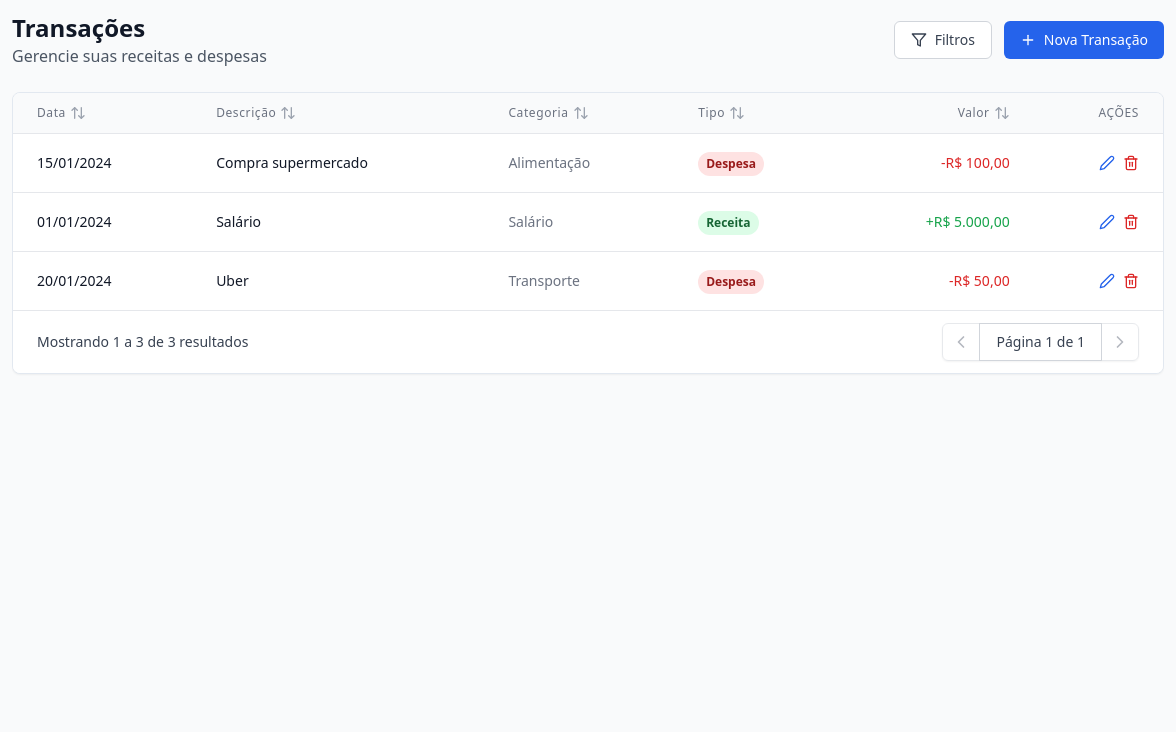
Test: TransactionsPage › Filtering › should open filter panel when clicking Filtros button
The image size is (1176, 732).
What coordinates should you click on to do the following:
click the button "Filtros"
I would click on:
 (943, 40)
Its box is [894,21,992,59].
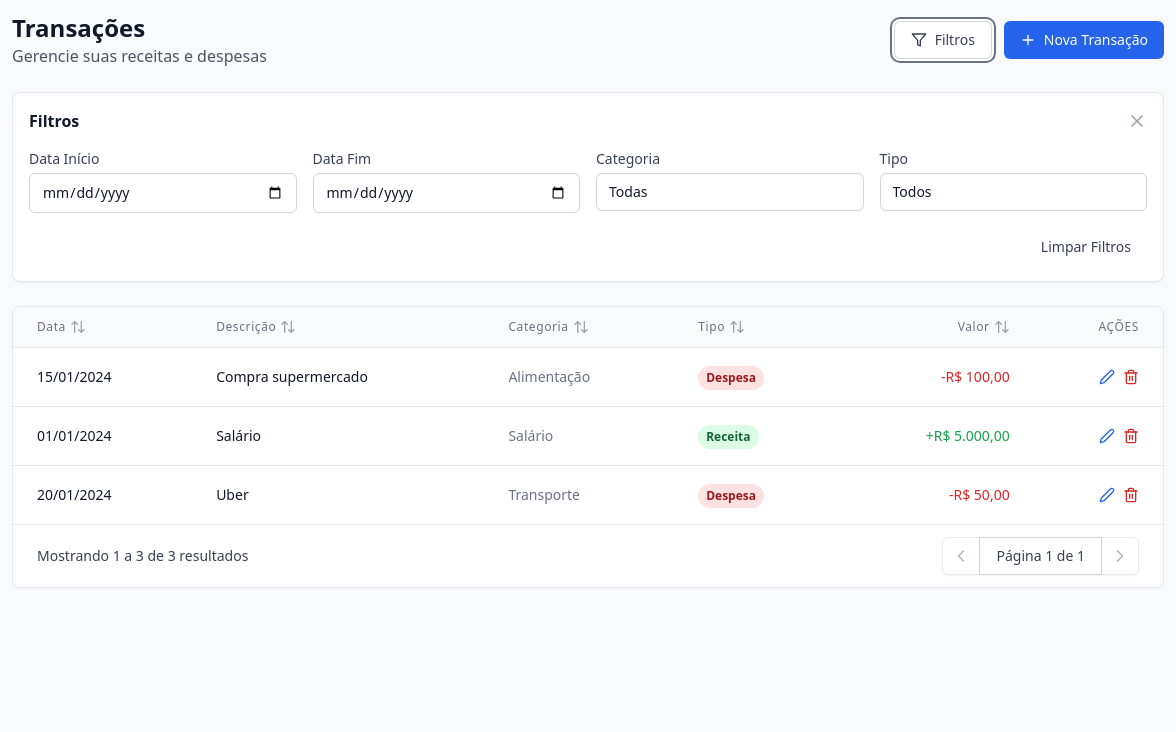
Expected: the text "Data Início" is shown, [29,149,99,168]
Expected: the text "Data Fim" is shown, [312,149,371,168]
